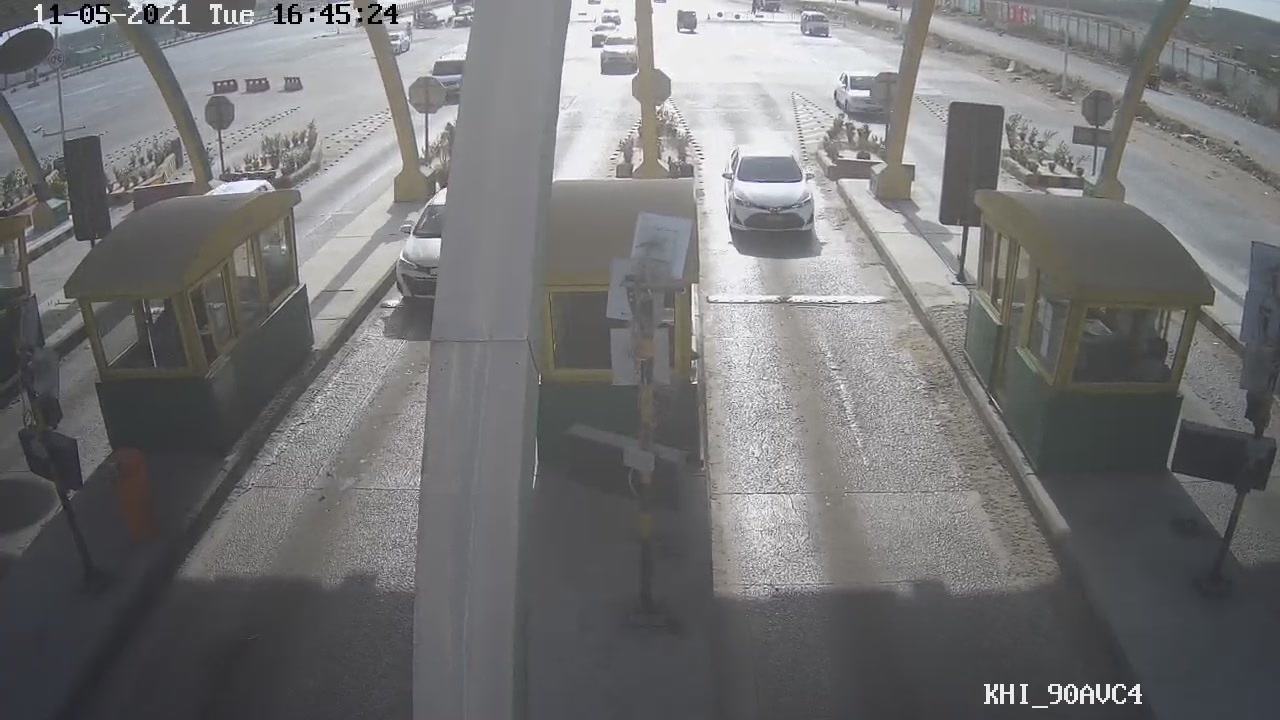F1: (716, 140, 823, 242)
